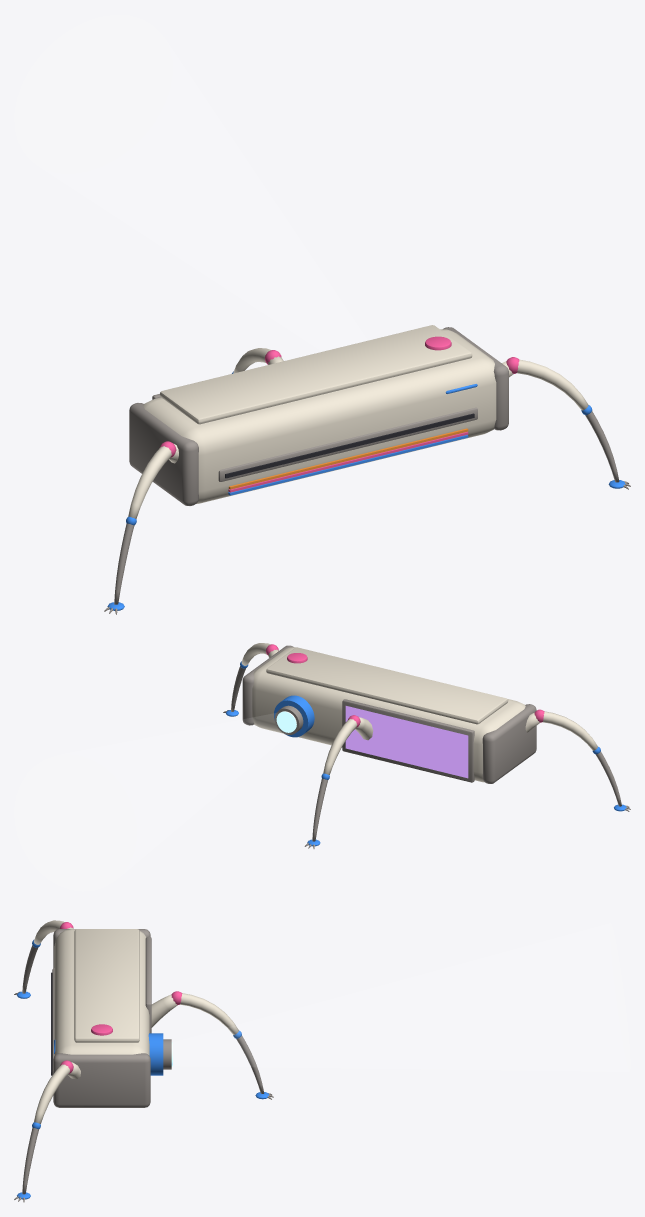
Rendered from sticker-bot.glb.
3 views of the same model, one above another, from view 1: azimuth 30°, elevation 25°; view 2: azimuth 150°, elevation 25°; view 3: azimuth 270°, elevation 25° (orthographic). The views are drawn at different scales.
Parts seen in each view (by area): view 1: Body, TopLid, EndCap_L, SlotLip, SlotMouth, EndCap_R, Leg_2_Seg2, Leg_1_Seg2, Band_1, Band_2, Band_3; view 2: TopLid, Body, BackScreen, EndCap_L, BackBezel, ProjectorHousing, EndCap_R, Leg_1_Seg2, Leg_3_Seg2, Leg_3_Seg3; view 3: TopLid, EndCap_R, Body, Leg_3_Seg2, Leg_2_Seg2, ProjectorHousing, BackBezel, Leg_3_Seg1, Leg_2_Seg3.
Part boxes in pixels (box(x1,y1,x2,y2)): Body: box(143, 329, 496, 503); TopLid: box(160, 325, 472, 424); EndCap_L: box(129, 403, 198, 505); SlotLip: box(218, 407, 477, 481); SlotMouth: box(225, 413, 474, 478); EndCap_R: box(443, 327, 508, 430); Leg_2_Seg2: box(517, 359, 588, 410); Leg_1_Seg2: box(128, 446, 171, 518); Band_1: box(228, 428, 468, 489); Band_2: box(228, 431, 468, 492); Band_3: box(228, 435, 468, 495); TopLid: box(266, 647, 508, 724); Body: box(252, 647, 525, 782); BackScreen: box(345, 706, 468, 778); EndCap_L: box(482, 704, 536, 783); BackBezel: box(342, 699, 474, 782); ProjectorHousing: box(274, 695, 314, 737); EndCap_R: box(242, 645, 293, 725); Leg_1_Seg2: box(542, 711, 597, 750); Leg_3_Seg2: box(323, 719, 357, 774); Leg_3_Seg3: box(312, 778, 327, 841); TopLid: box(74, 929, 139, 1042); EndCap_R: box(53, 1053, 150, 1107); Body: box(54, 929, 149, 1055); Leg_3_Seg2: box(180, 993, 238, 1034); Leg_2_Seg2: box(34, 1064, 69, 1123); ProjectorHousing: box(148, 1033, 163, 1075); BackBezel: box(145, 936, 151, 1033); Leg_3_Seg1: box(151, 994, 177, 1027); Leg_2_Seg3: box(22, 1128, 38, 1194).
Size of the model in its own units: 0.9916 by 0.4482 by 1.23.
